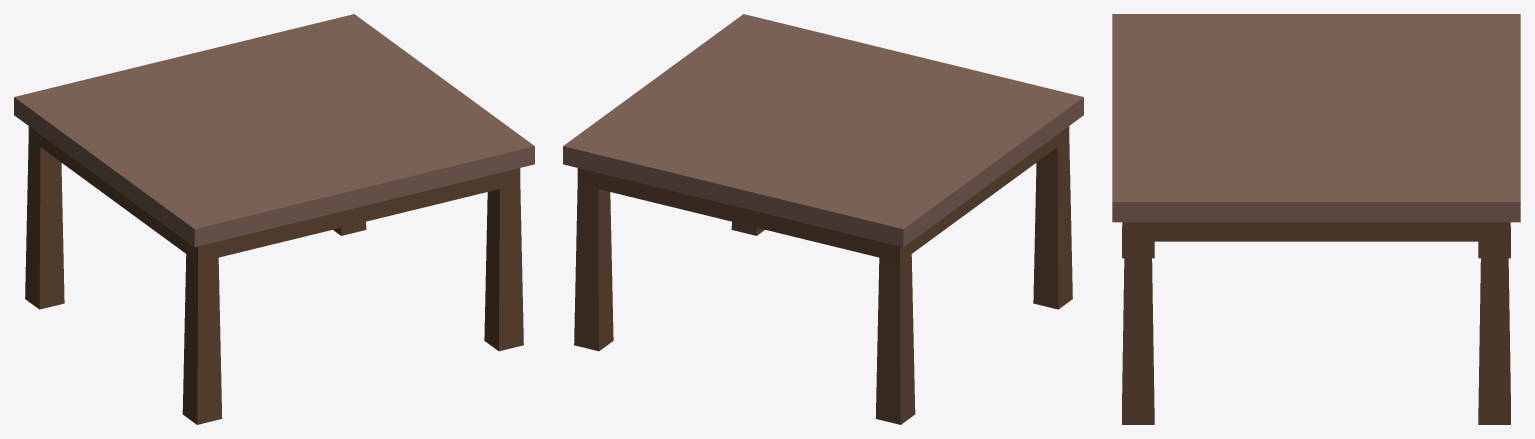
Rendered from prop_table.glb.
3 views of the same model, side by side, from view 1: azimuth 30°, elevation 25°; view 2: azimuth 150°, elevation 25°; view 3: azimuth 270°, elevation 25° (orthographic). The views are drawn at different scales.
Visible parts, largest first — view 1: Table_Cube.001; view 2: Table_Cube.001; view 3: Table_Cube.001.
Boxes of the visible parts, <box> form: Table_Cube.001: <box>14,14,534,424</box>; Table_Cube.001: <box>563,14,1083,424</box>; Table_Cube.001: <box>1112,14,1520,424</box>.
Bounding box in the file's own units: 1.11 × 0.6228 × 1.02.
